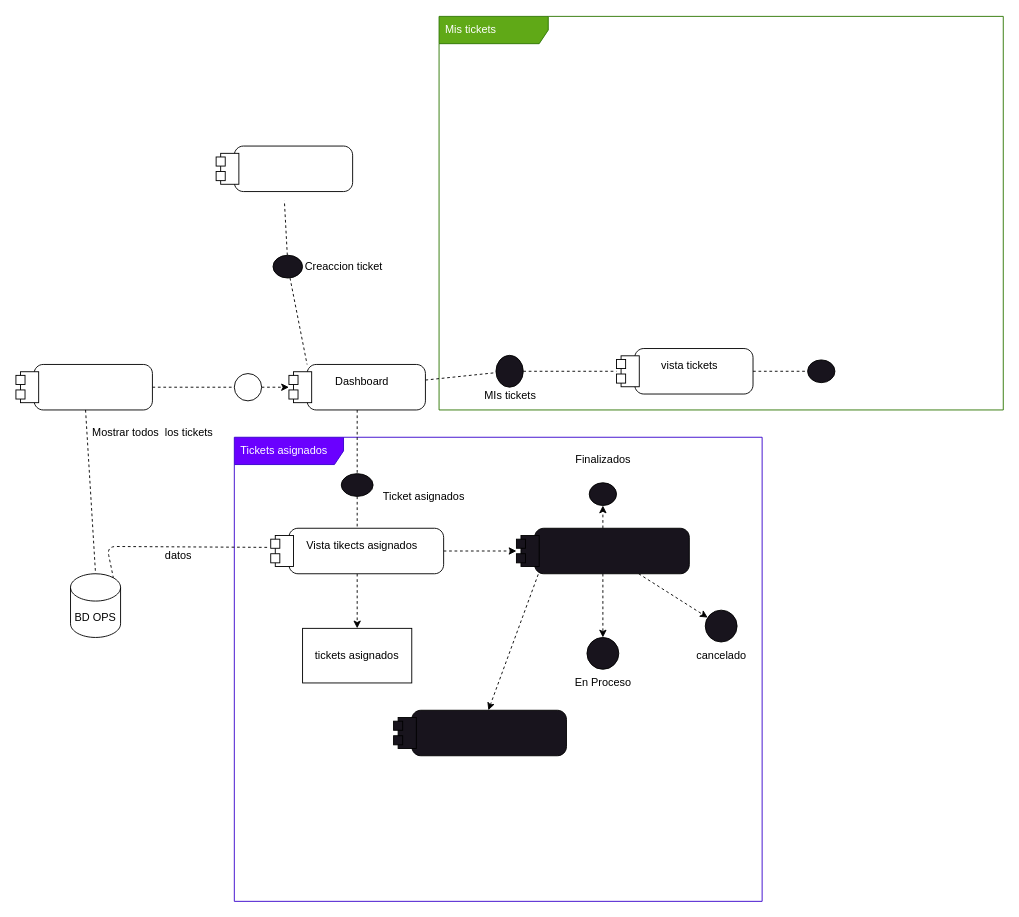
Image size: 1019x917. Some labels were removed from this diagram. Each missing label, with the centre of its shape:
Logerse: (x=83, y=387)
vista comentar ticket: (x=479, y=732)
vista crear ticket: (x=284, y=168)
Vista un ticket: (x=602, y=550)
